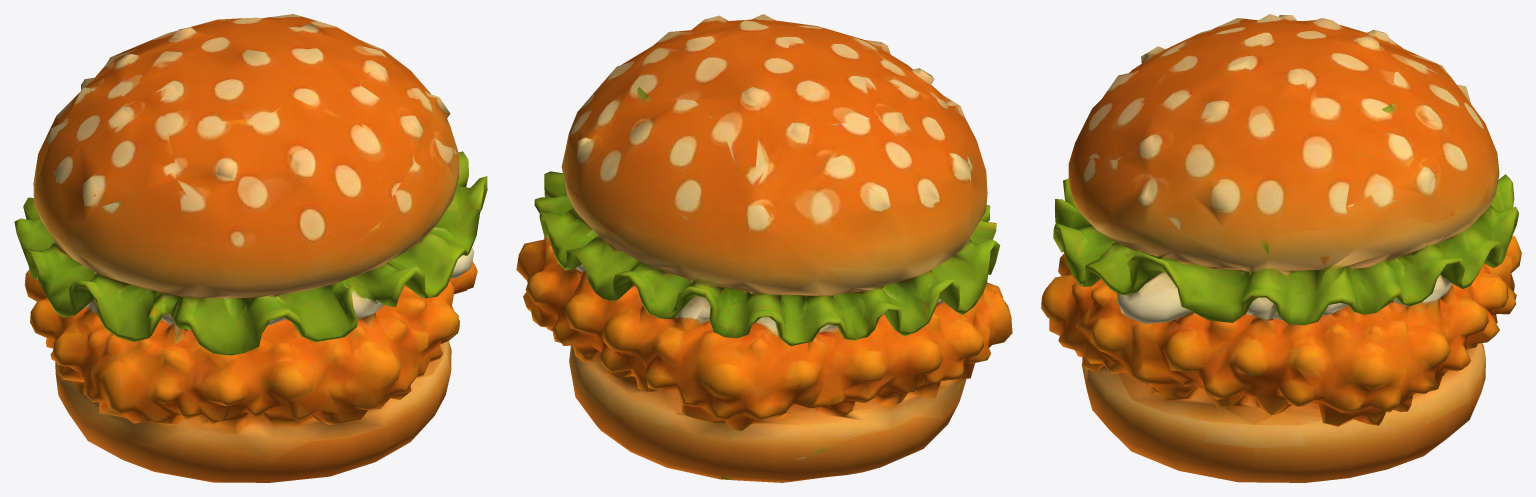
3 views of the same model, side by side, from view 1: azimuth 30°, elevation 25°; view 2: azimuth 150°, elevation 25°; view 3: azimuth 270°, elevation 25° (orthographic).
Visible parts, largest first — view 1: chicken-burger; view 2: chicken-burger; view 3: chicken-burger.
Part boxes in pixels (box(x1,y1,x2,y2)): chicken-burger: box(14, 14, 487, 482); chicken-burger: box(516, 14, 1012, 482); chicken-burger: box(1041, 14, 1521, 482).
Size of the model in its own units: 0.137 by 0.1201 by 0.1364.
Materials: 1 (1 with a texture image).
